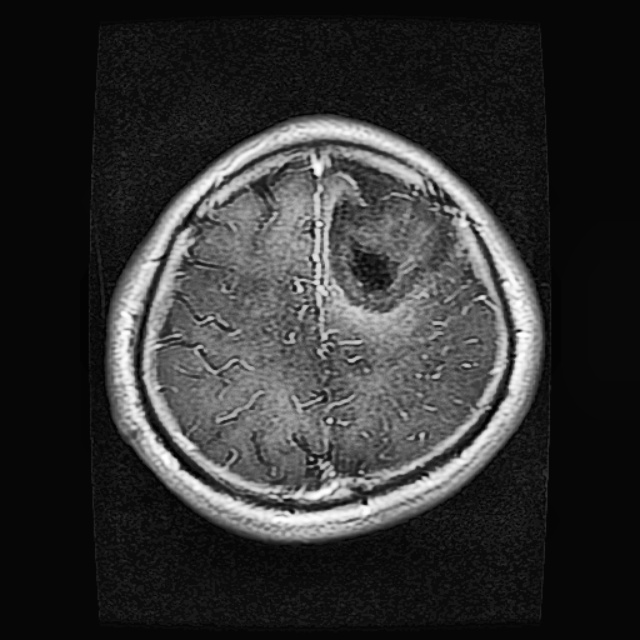Glioma: (328, 165, 455, 313)
